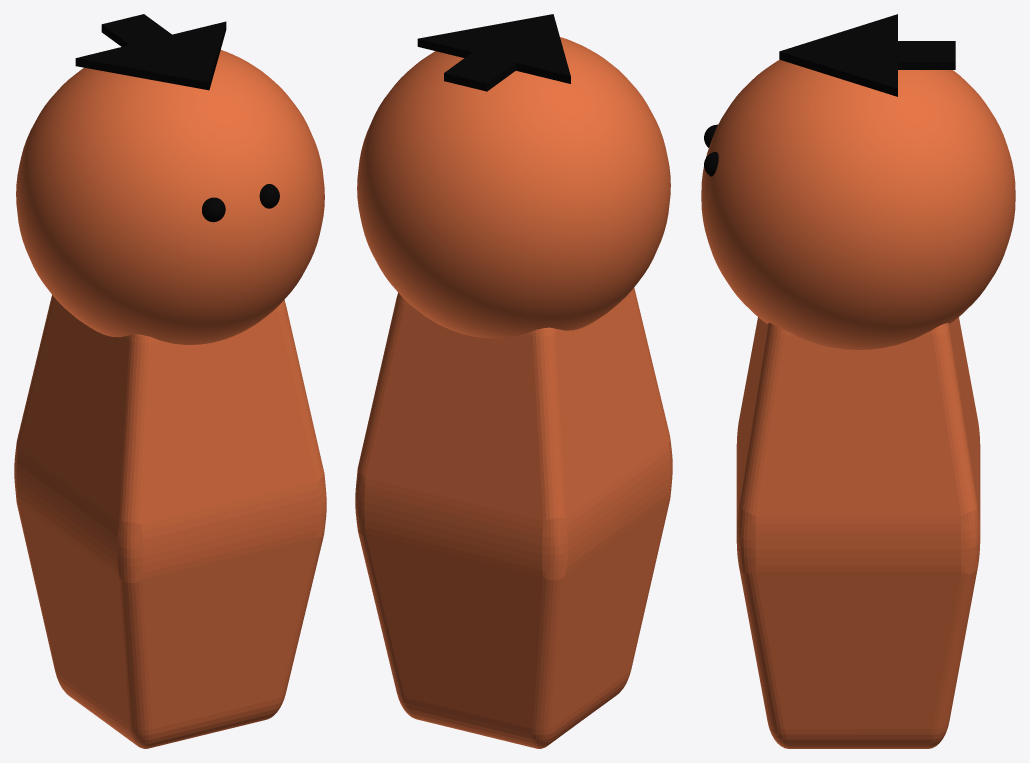
File: 3beige.obj
3 renders of one model, left to right at view 1: azimuth 30°, elevation 25°; view 2: azimuth 150°, elevation 25°; view 3: azimuth 270°, elevation 25°, orthographic.
Parts seen in each view (by area): view 1: Cube.006_Cube.011; view 2: Cube.006_Cube.011; view 3: Cube.006_Cube.011.
Part boxes in pixels (x1=…): Cube.006_Cube.011: x1=14, y1=14, x2=326, y2=748; Cube.006_Cube.011: x1=355, y1=14, x2=672, y2=748; Cube.006_Cube.011: x1=701, y1=14, x2=1015, y2=748.
Bounding box in the file's own units: 0.2062 × 0.482 × 0.2057.
